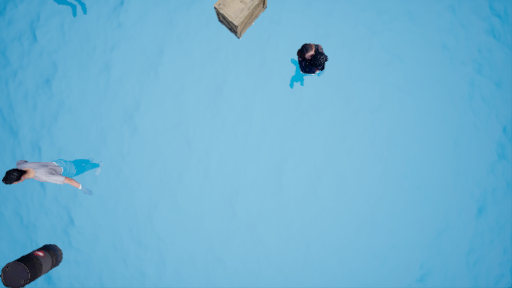person: (3, 156, 106, 196), (280, 40, 332, 92)
